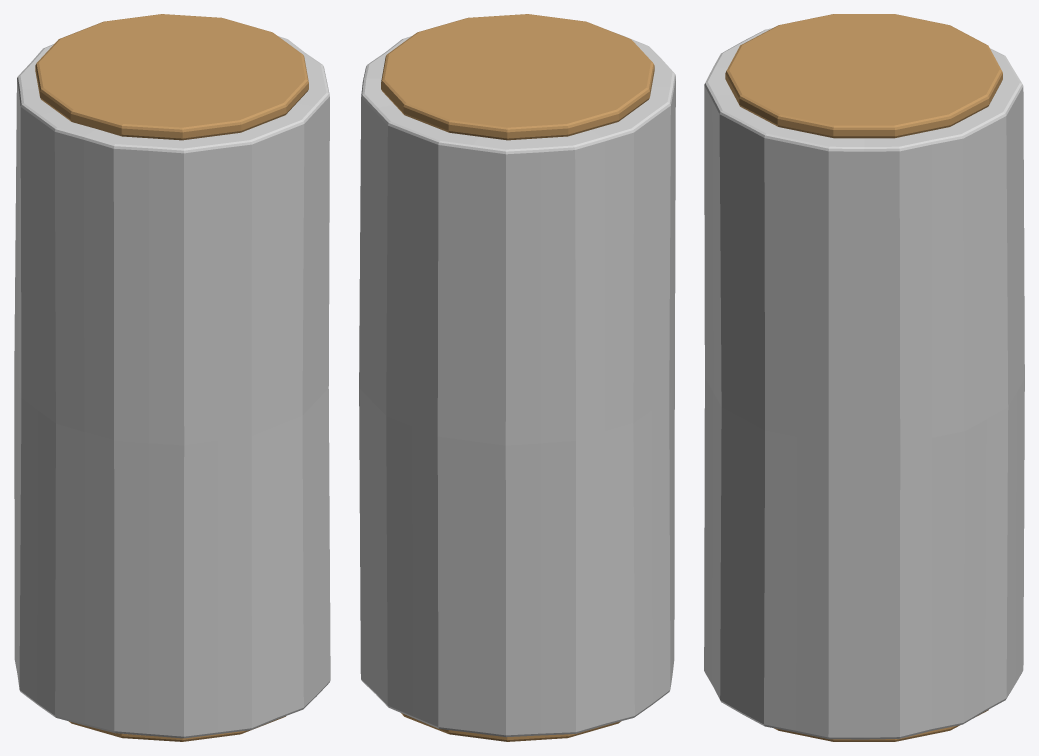
Rendered from grecia_log.fbx.
3 views of the same model, side by side, from view 1: azimuth 30°, elevation 25°; view 2: azimuth 150°, elevation 25°; view 3: azimuth 270°, elevation 25° (orthographic).
Parts seen in each view (by area): view 1: grecia_log; view 2: grecia_log; view 3: grecia_log.
Part boxes in pixels (left/top/right/bottom): grecia_log: left=14, top=14, right=330, bottom=741; grecia_log: left=359, top=14, right=675, bottom=741; grecia_log: left=704, top=14, right=1024, bottom=741.
Bounding box in the file's own units: 0.9059 × 1.96 × 0.9246.
